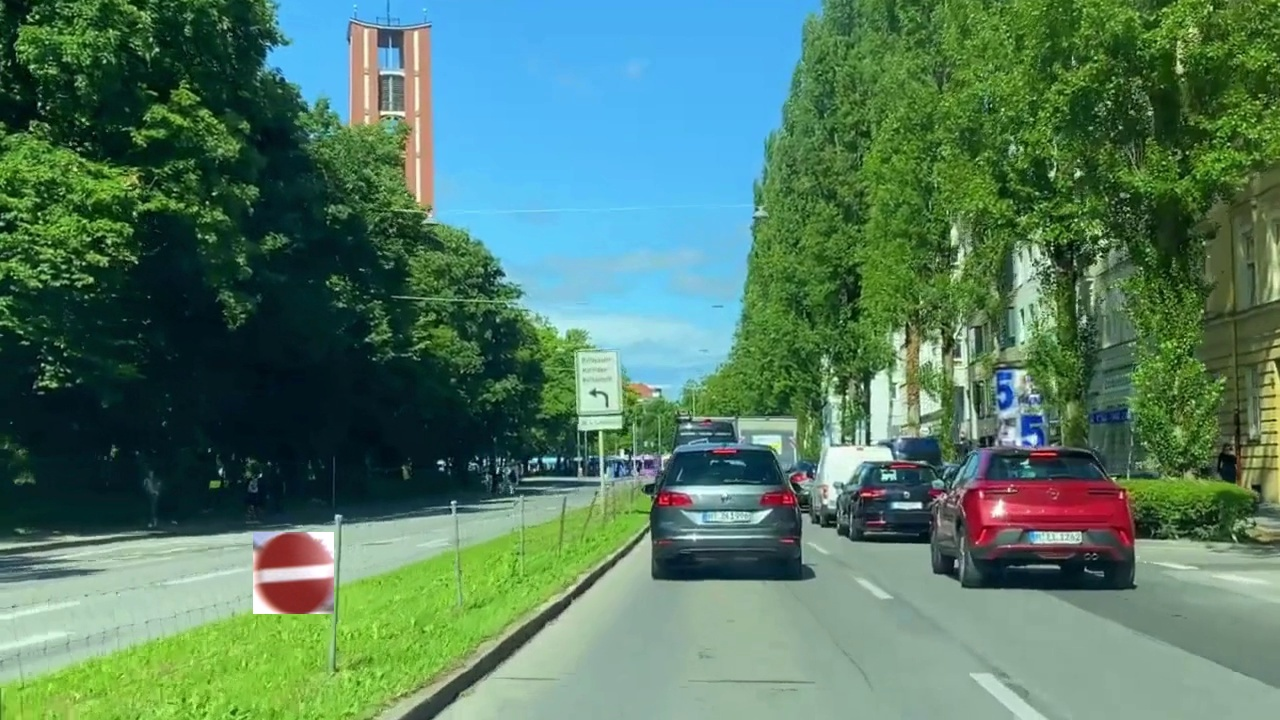No entry: (253, 532, 334, 614)
